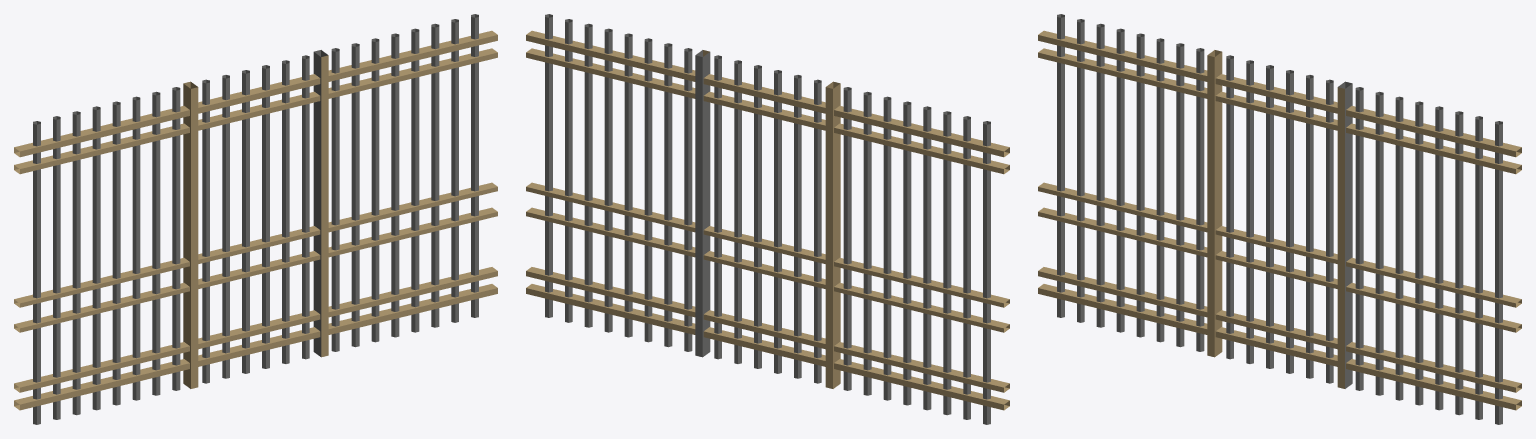
The model's file is VaultGate_Wall_01.glb.
3 renders of one model, left to right at view 1: azimuth 30°, elevation 25°; view 2: azimuth 150°, elevation 25°; view 3: azimuth 330°, elevation 25°, orthographic.
Visible parts, largest first — view 1: SM_Env_VaultGate_Wall_01; view 2: SM_Env_VaultGate_Wall_01; view 3: SM_Env_VaultGate_Wall_01.
Part boxes in pixels (x1=…): SM_Env_VaultGate_Wall_01: x1=14, y1=14, x2=497, y2=424; SM_Env_VaultGate_Wall_01: x1=526, y1=14, x2=1009, y2=424; SM_Env_VaultGate_Wall_01: x1=1038, y1=14, x2=1521, y2=424.
Size of the model in its own units: 5 by 3 by 0.1368.
1 material, 1 textured.
